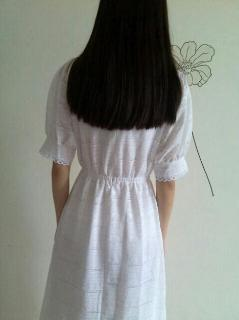short sleeve dress: (39, 57, 193, 319)
